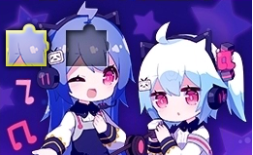gap: (66, 25, 110, 67)
